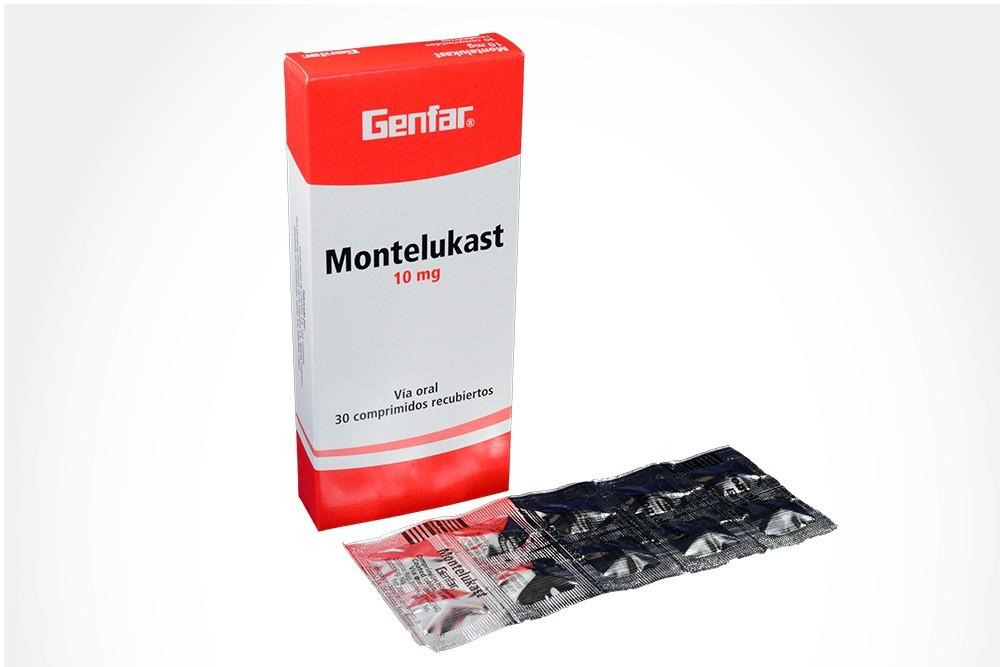Genfar: (313, 62, 509, 535)
